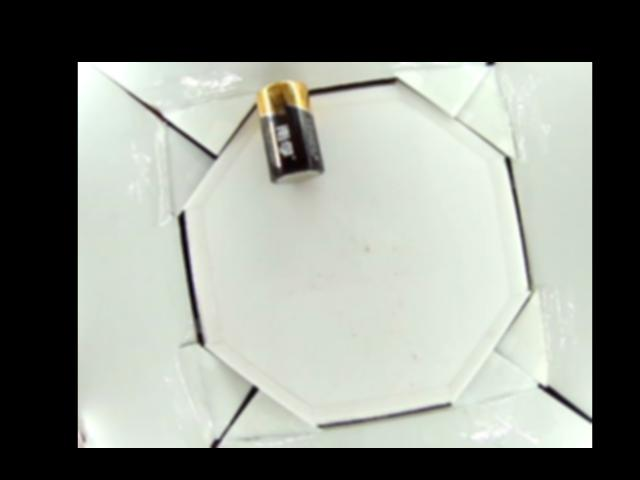Battery: (254, 78, 322, 184)
